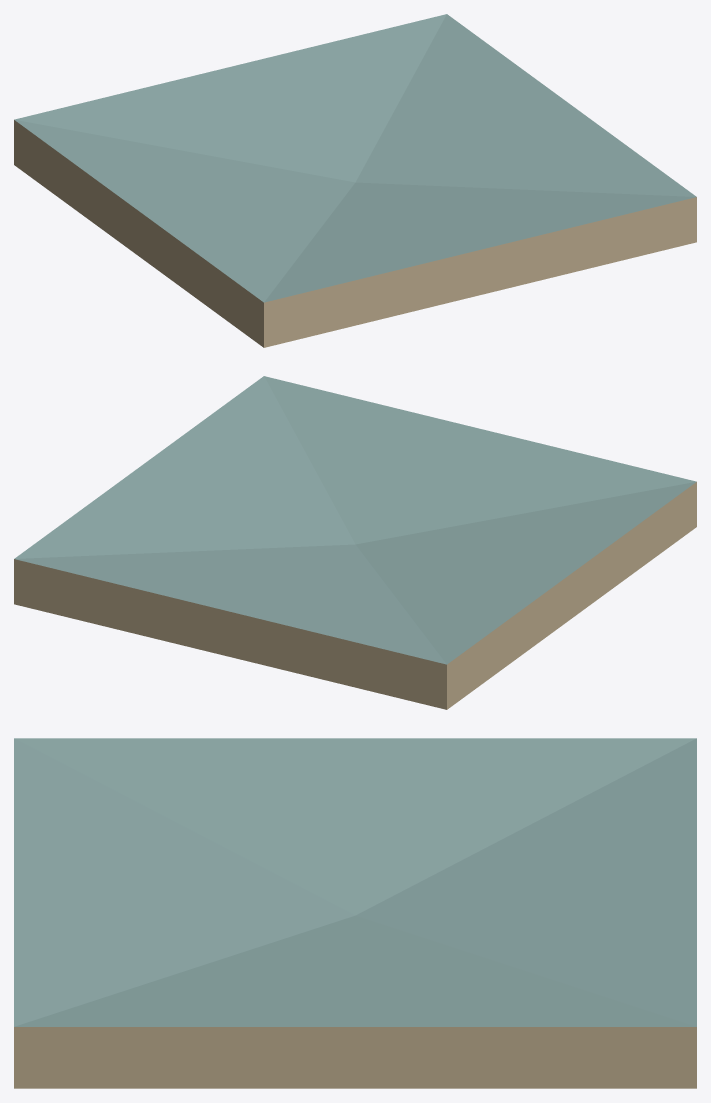
Rendered from naturePack_003.gltf.
3 views of the same model, one above another, from view 1: azimuth 30°, elevation 25°; view 2: azimuth 150°, elevation 25°; view 3: azimuth 270°, elevation 25° (orthographic). The views are drawn at different scales.
Visible parts, largest first — view 1: Mesh1 Plate_Grass Model; view 2: Mesh1 Plate_Grass Model; view 3: Mesh1 Plate_Grass Model.
Boxes of the visible parts, x1,y1,x2,y2 form: Mesh1 Plate_Grass Model: (14,14,696,347); Mesh1 Plate_Grass Model: (14,376,696,709); Mesh1 Plate_Grass Model: (14,738,696,1088).
Size of the model in its own units: 3 by 0.3 by 3.
